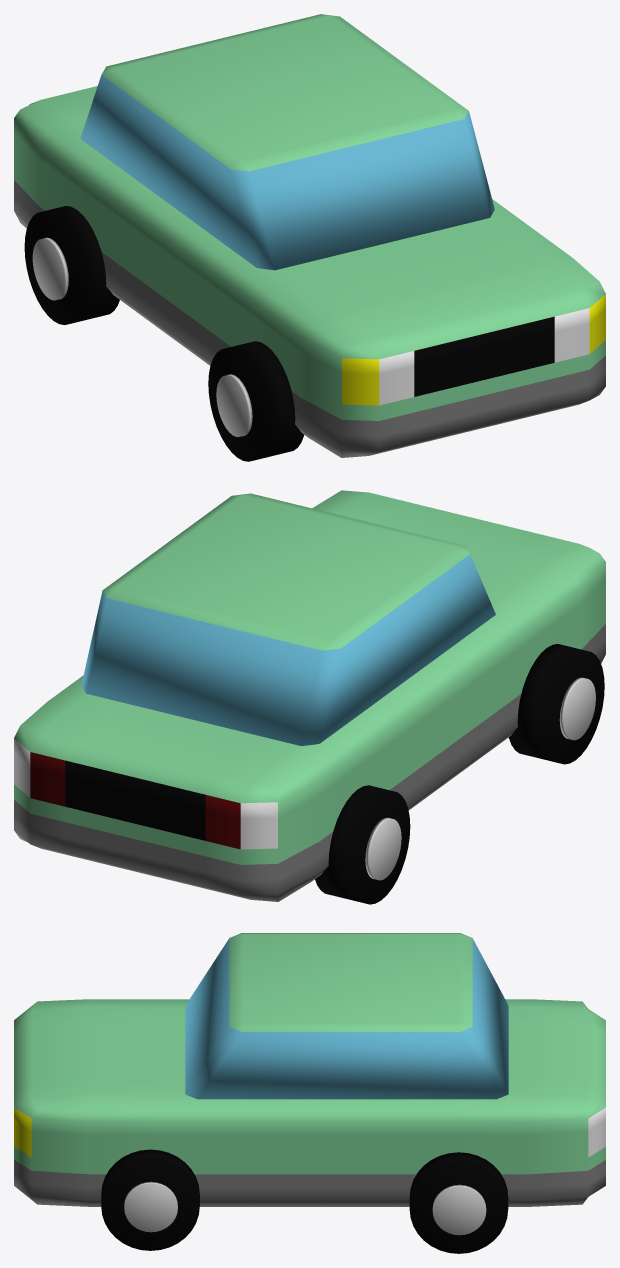
The model's file is carro.fbx.
The picture shows the model from 3 angles, top to bottom: view 1: azimuth 30°, elevation 25°; view 2: azimuth 150°, elevation 25°; view 3: azimuth 270°, elevation 25°; orthographic projection. The views are drawn at different scales.
Parts seen in each view (by area): view 1: Cube, Cube_001, Cylinder_002, Cylinder_003; view 2: Cube, Cube_001, Cylinder_002, Cylinder_003; view 3: Cube, Cube_001, Cylinder_001, Cylinder.
Part boxes in pixels (<box>): Cube: <box>14,86,605,457</box>; Cube_001: <box>80,14,494,270</box>; Cylinder_002: <box>208,341,303,461</box>; Cylinder_003: <box>24,206,119,324</box>; Cube: <box>14,490,605,901</box>; Cube_001: <box>81,493,495,745</box>; Cylinder_002: <box>508,644,604,764</box>; Cylinder_003: <box>315,785,410,904</box>; Cube: <box>14,999,605,1206</box>; Cube_001: <box>185,933,508,1099</box>; Cylinder_001: <box>409,1152,508,1253</box>; Cylinder: <box>101,1149,199,1250</box>.
Size of the model in its own units: 2.86 by 1.9 by 4.96.
